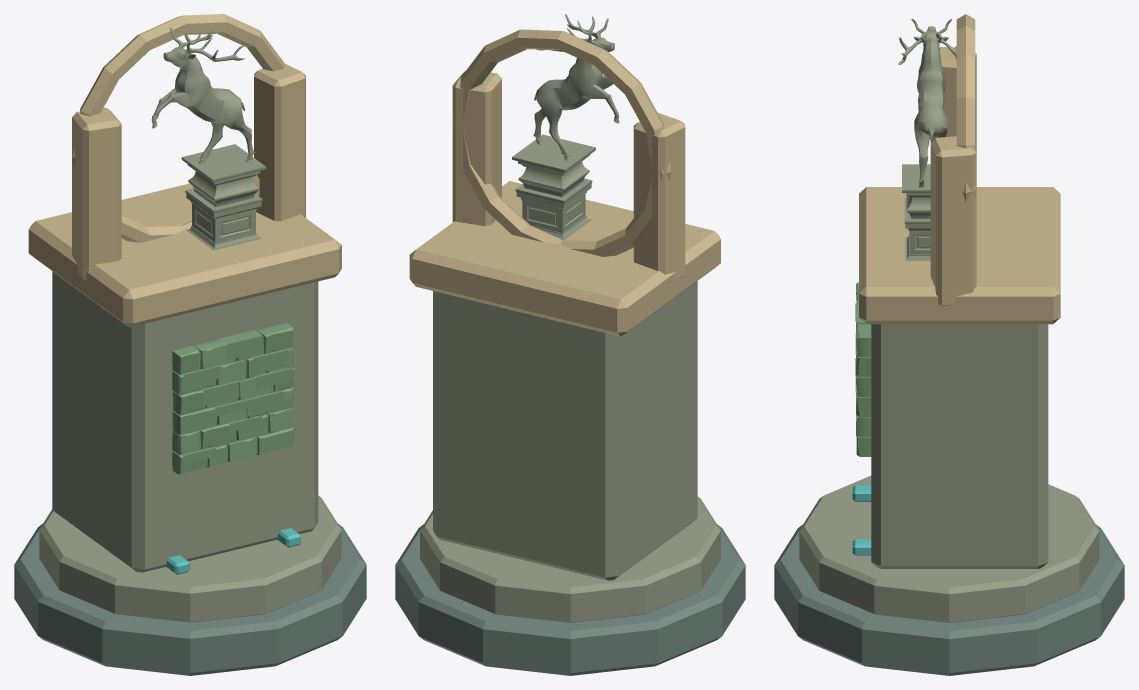
File: rain-god-shrine.glb
The picture shows the model from 3 angles, left to right: view 1: azimuth 30°, elevation 25°; view 2: azimuth 150°, elevation 25°; view 3: azimuth 270°, elevation 25°; orthographic projection.
Parts seen in each view (by area): view 1: temple_temple_weathered_stone, temple_temple_sun_stone, temple_temple_water-stained_stone, temple_temple_moss, temple_temple_runoff_accent; view 2: temple_temple_weathered_stone, temple_temple_sun_stone, temple_temple_water-stained_stone; view 3: temple_temple_weathered_stone, temple_temple_sun_stone, temple_temple_water-stained_stone, temple_temple_moss, temple_temple_runoff_accent.
Part boxes in pixels (x1=…): temple_temple_weathered_stone: x1=39, y1=28, x2=341, y2=622; temple_temple_sun_stone: x1=28, y1=14, x2=341, y2=327; temple_temple_water-stained_stone: x1=14, y1=523, x2=366, y2=675; temple_temple_moss: x1=172, y1=323, x2=294, y2=474; temple_temple_runoff_accent: x1=165, y1=528, x2=300, y2=574; temple_temple_weathered_stone: x1=420, y1=14, x2=720, y2=622; temple_temple_sun_stone: x1=409, y1=29, x2=720, y2=336; temple_temple_water-stained_stone: x1=395, y1=524, x2=745, y2=675; temple_temple_weathered_stone: x1=799, y1=18, x2=1099, y2=622; temple_temple_sun_stone: x1=859, y1=14, x2=1060, y2=324; temple_temple_water-stained_stone: x1=774, y1=524, x2=1124, y2=675; temple_temple_moss: x1=855, y1=282, x2=871, y2=456; temple_temple_runoff_accent: x1=852, y1=485, x2=871, y2=555.
Size of the model in its own units: 8.5 by 15.51 by 8.5.
